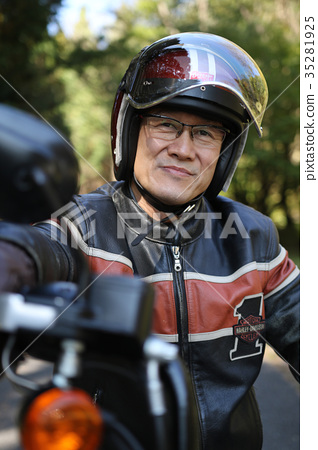helmet: (118, 40, 260, 176)
